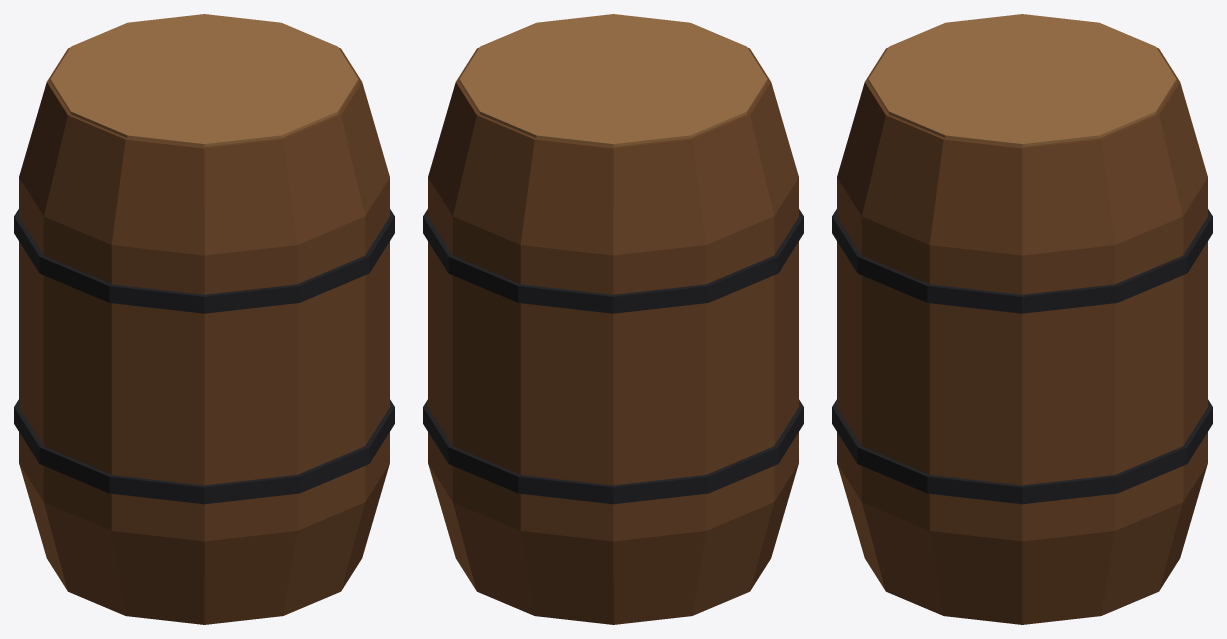
Rendered from SM_Barrel.obj.
3 views of the same model, side by side, from view 1: azimuth 30°, elevation 25°; view 2: azimuth 150°, elevation 25°; view 3: azimuth 270°, elevation 25° (orthographic).
Visible parts, largest first — view 1: SM_Barrel; view 2: SM_Barrel; view 3: SM_Barrel.
Part boxes in pixels (x1,y1,x2,y2): SM_Barrel: (14,14,394,624); SM_Barrel: (423,14,803,624); SM_Barrel: (832,14,1212,624).
Size of the model in its own units: 0.616 by 0.855 by 0.616.
